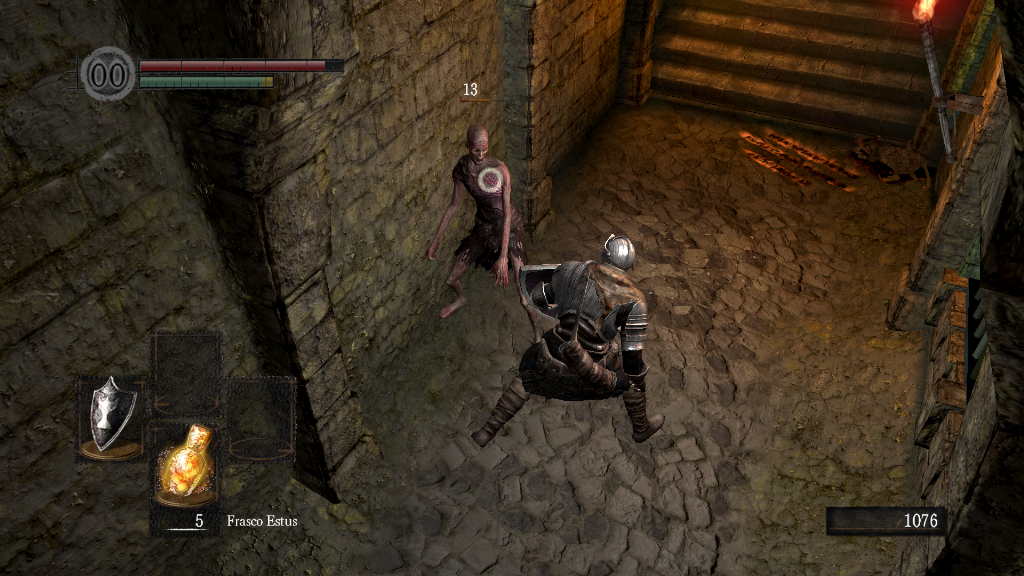health: (138, 58, 343, 71)
hollow: (419, 120, 545, 346)
humanity: (80, 45, 136, 102)
player: (471, 233, 666, 447)
souls: (825, 506, 945, 536)
stamina: (138, 74, 274, 88)
